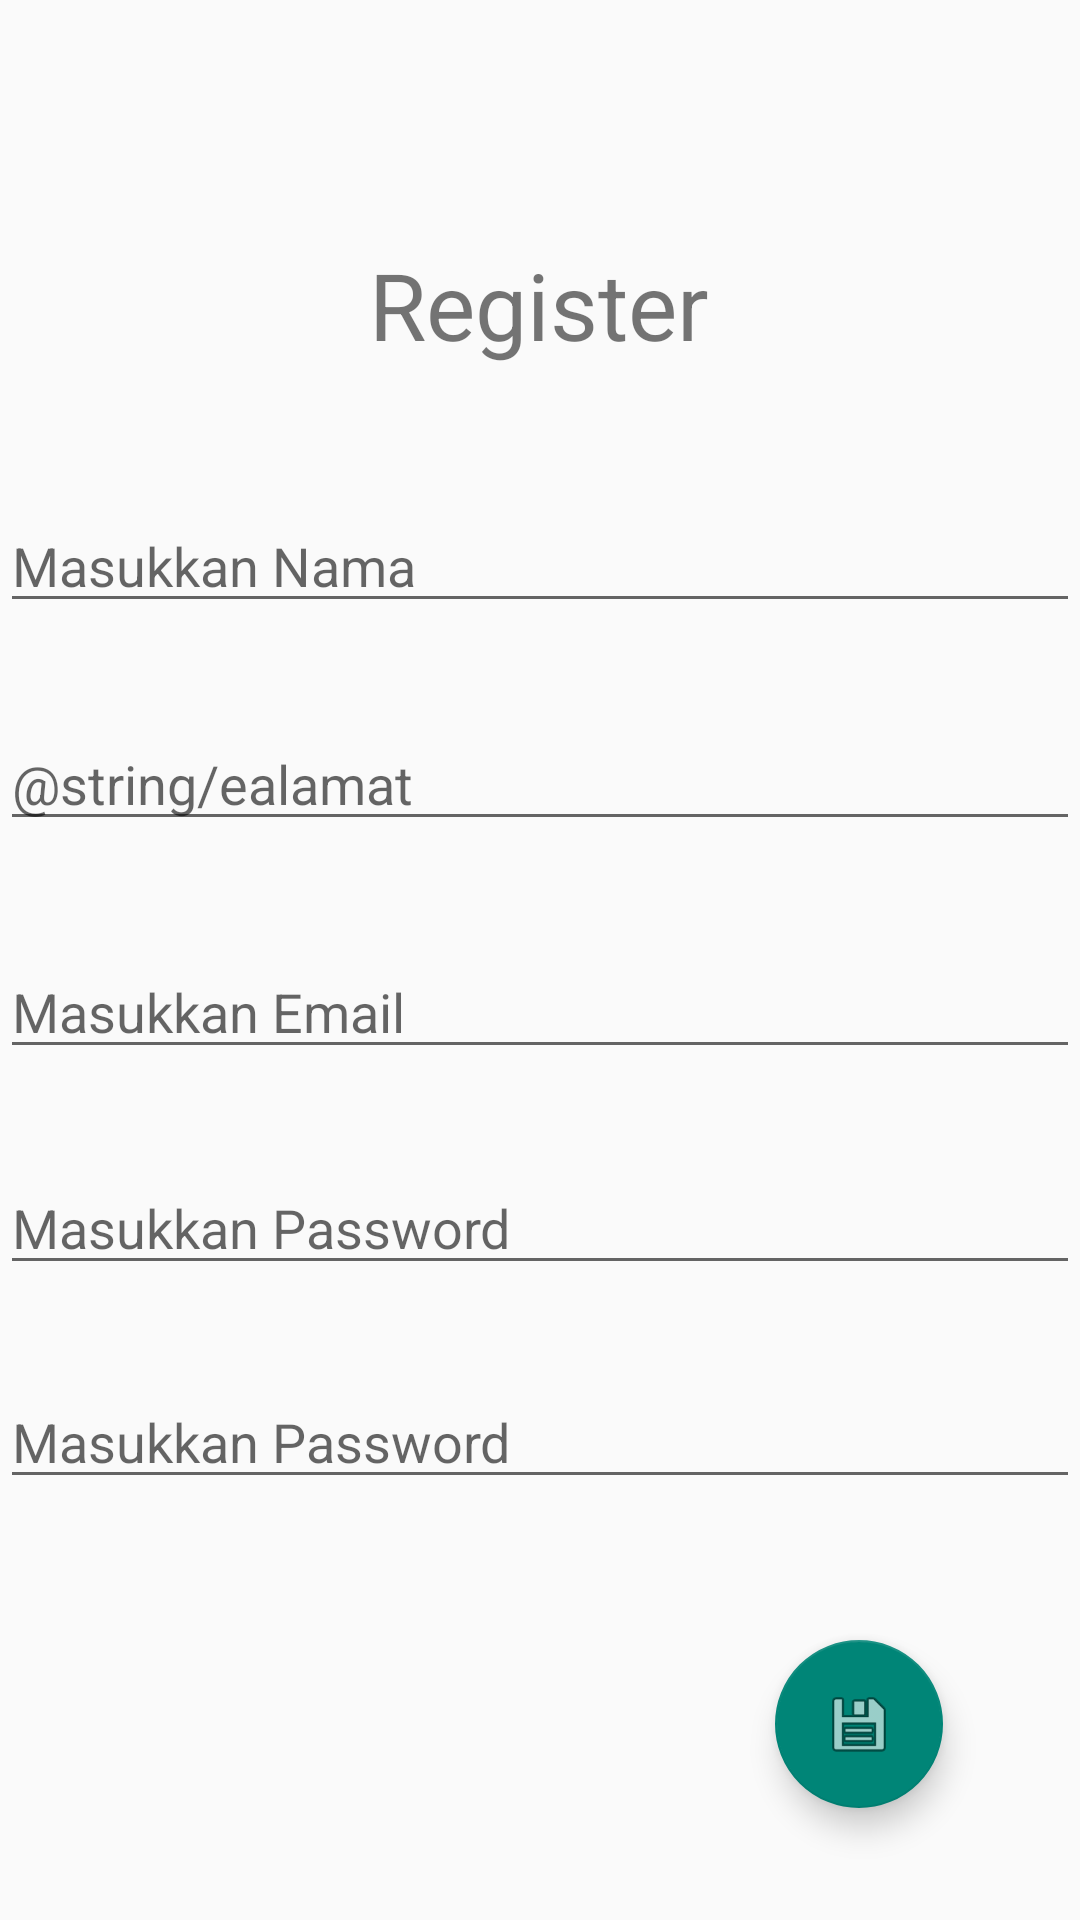

Point at icon controls on the screen. Image size 1080*1920, points as (x=x, y=y).
save: (x=859, y=1724)
